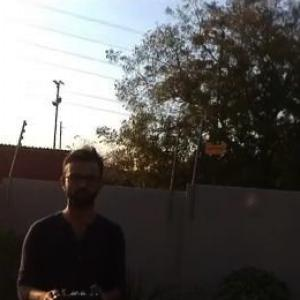follow: (12, 136, 132, 299)
